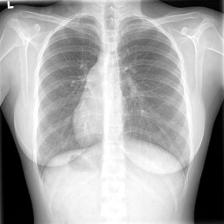normal: (31, 10, 196, 189)
